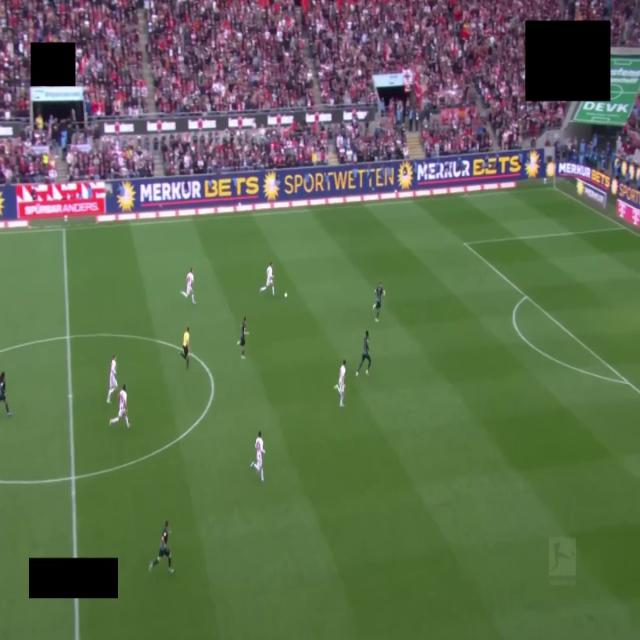ball: (284, 292, 288, 298)
player: (149, 520, 173, 573), (110, 384, 130, 428), (251, 432, 264, 482), (356, 331, 370, 376), (106, 354, 118, 404), (334, 360, 346, 407), (181, 268, 195, 304), (0, 372, 11, 416), (373, 281, 385, 321), (237, 316, 248, 359), (260, 263, 274, 295)
referee: (183, 328, 189, 368)
